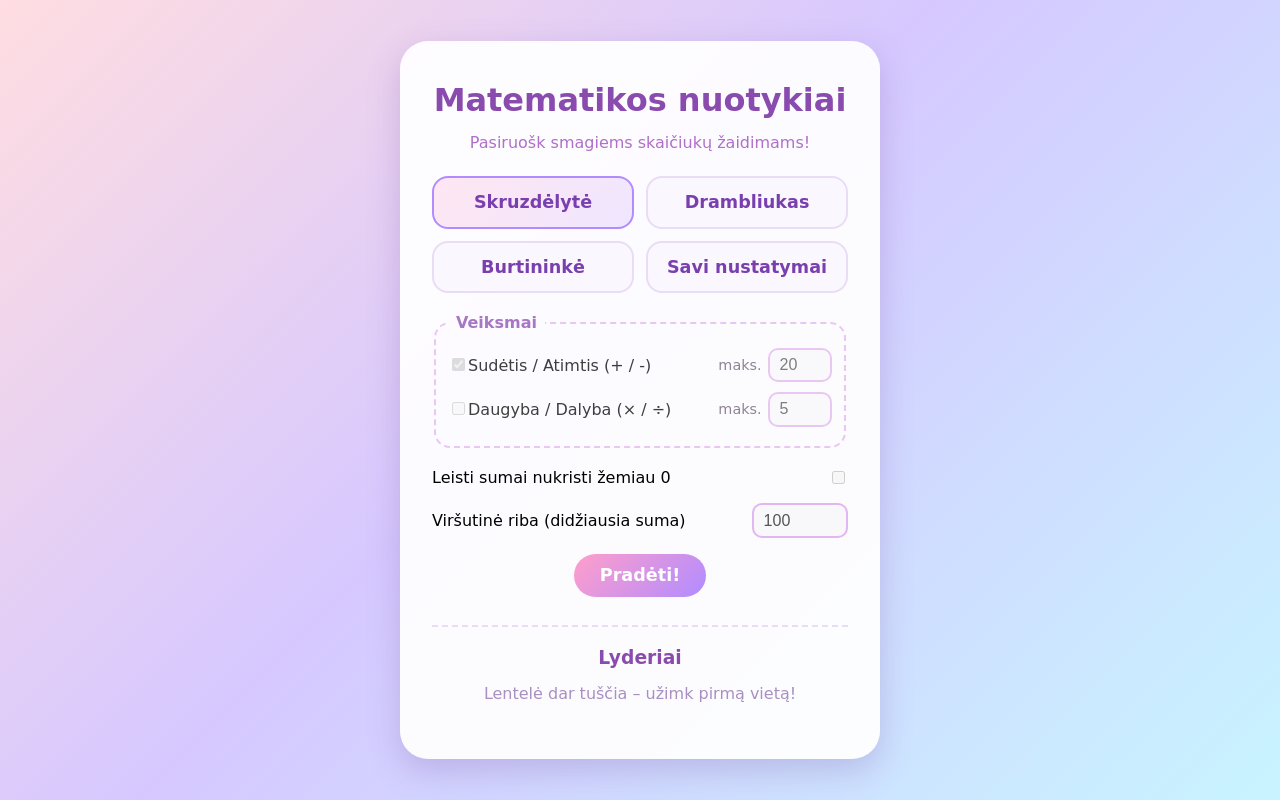
Scenario: App › defaults the upper-limit setting to 100 and rejects values below 1
Click the radio button labelled "Savi nustatymai" at [747, 267], box [646, 241, 848, 294]
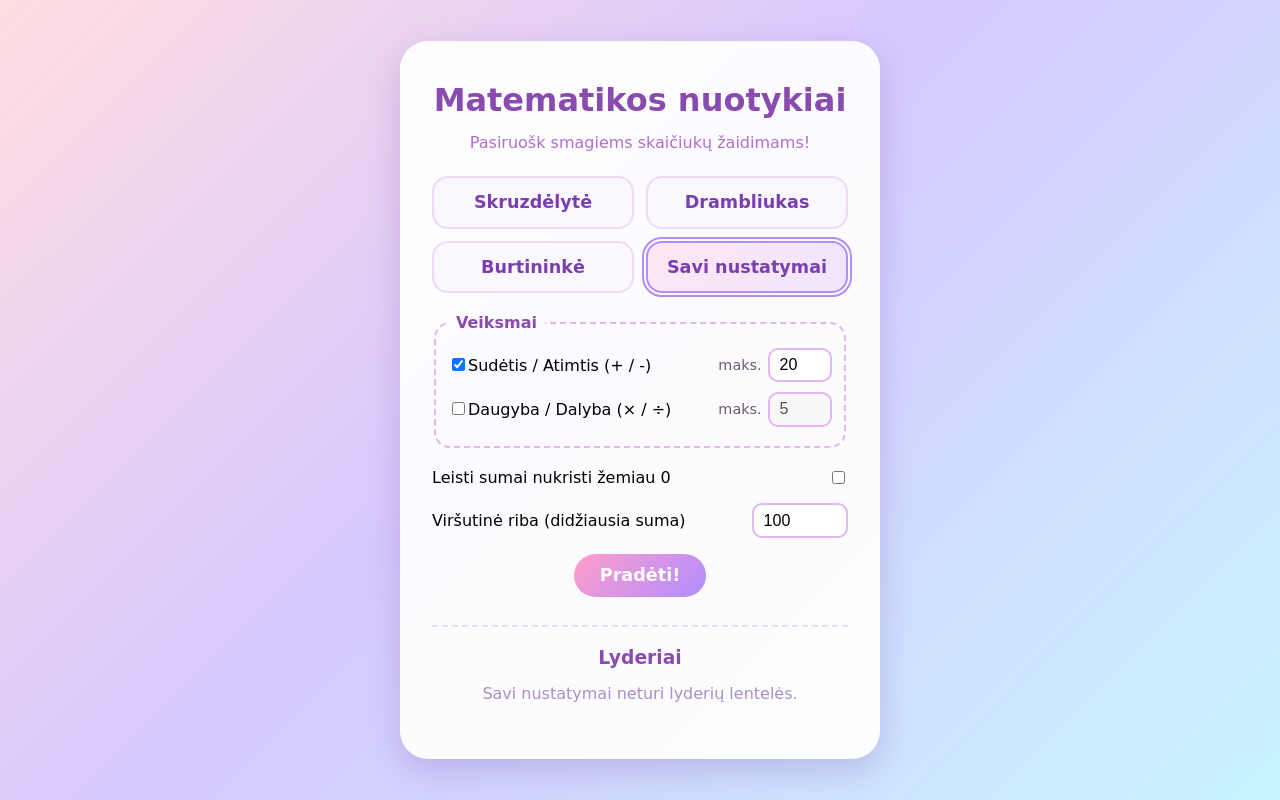
Replace the text in the number field labelled "Viršutinė riba (didžiausia suma)" with "0" at [800, 521], box [752, 503, 848, 538]
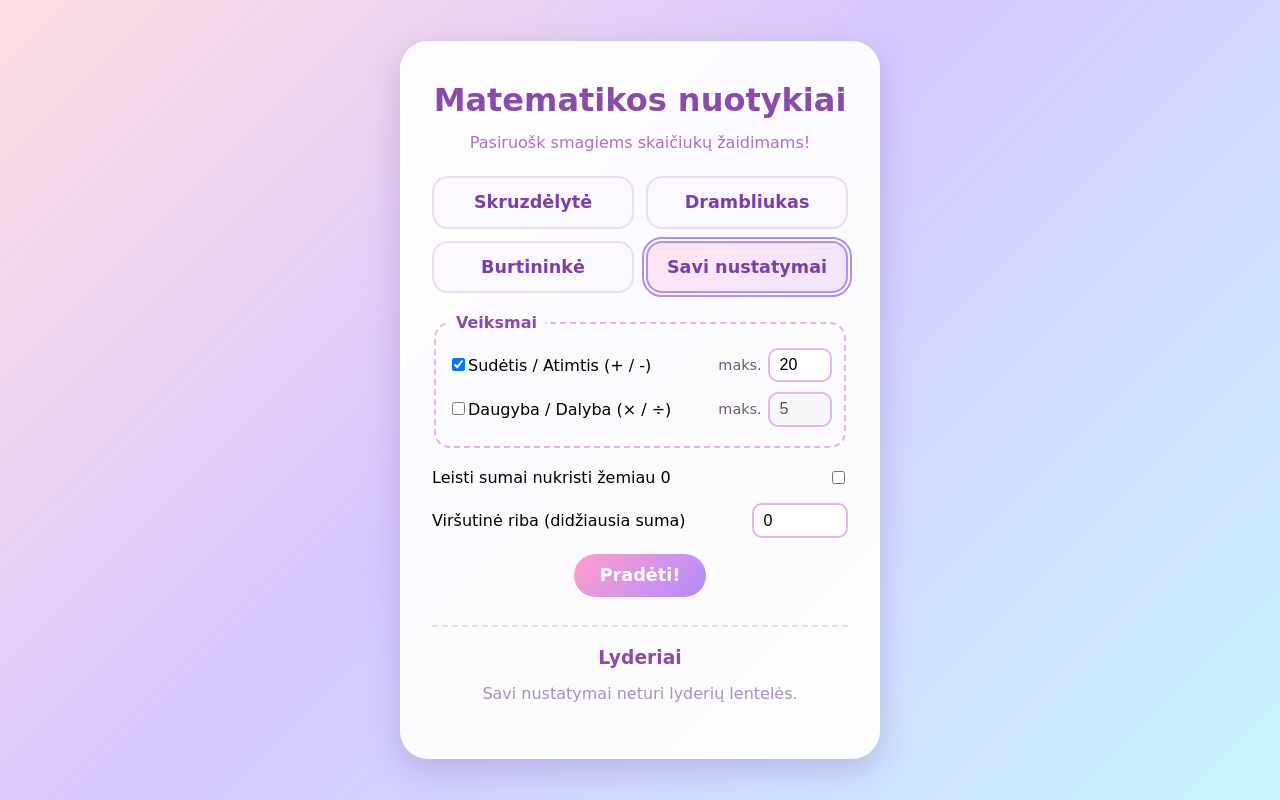
Click the button "Pradėti!" at [640, 575], box [574, 554, 706, 597]
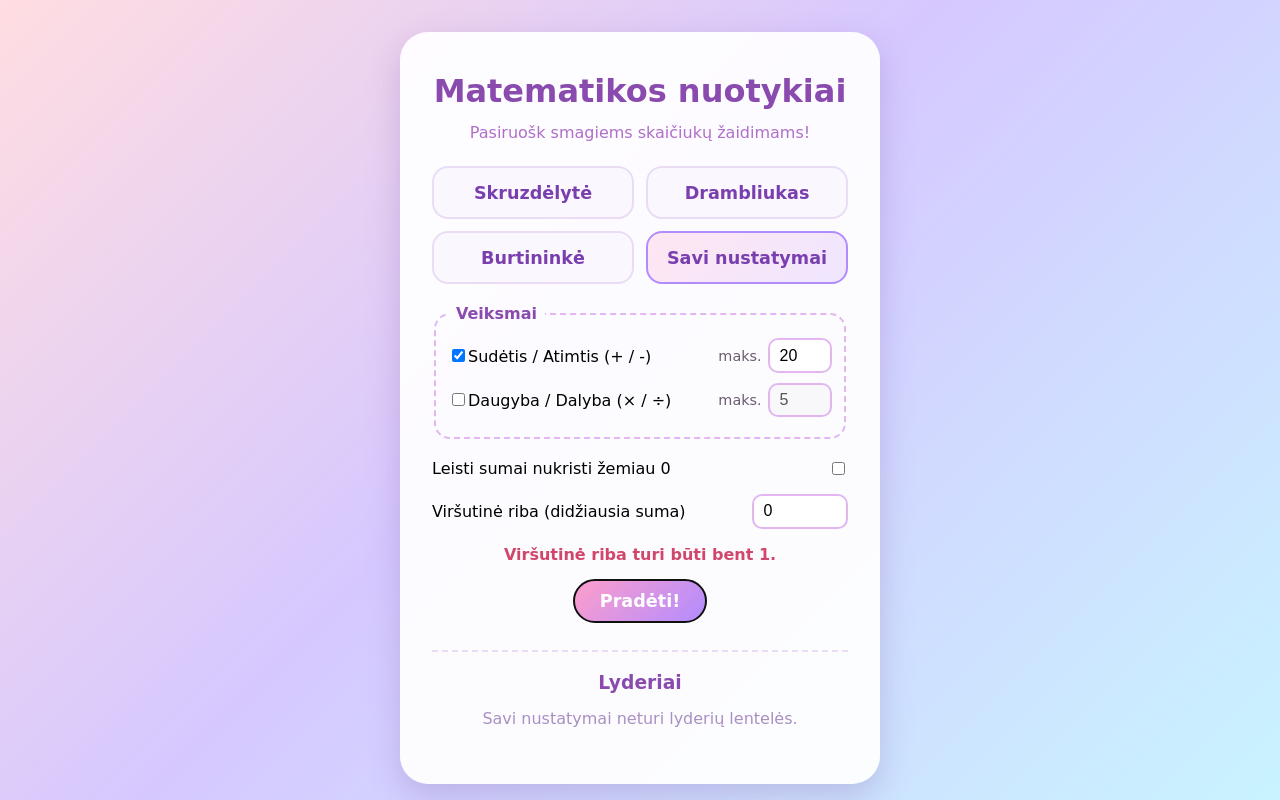
Now the text "Viršutinė riba turi būti bent 1." is shown, box [504, 545, 776, 564]
